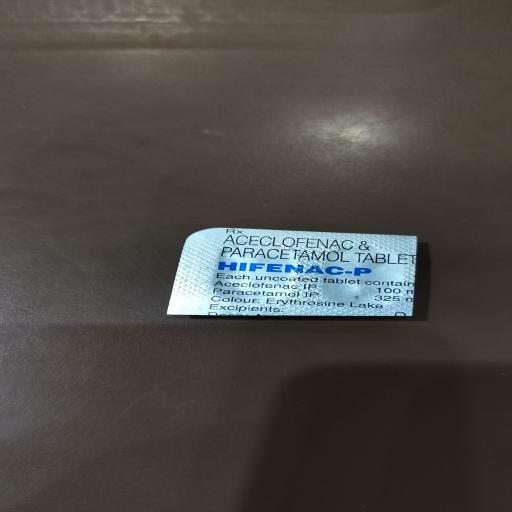hifenac-p: (213, 260, 402, 278)
medicine: (168, 224, 417, 312)
